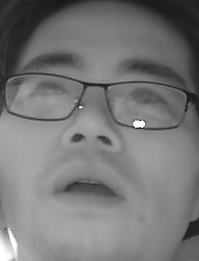glass: (105, 78, 187, 132), (5, 71, 84, 120)
mouth: (48, 160, 127, 210)
